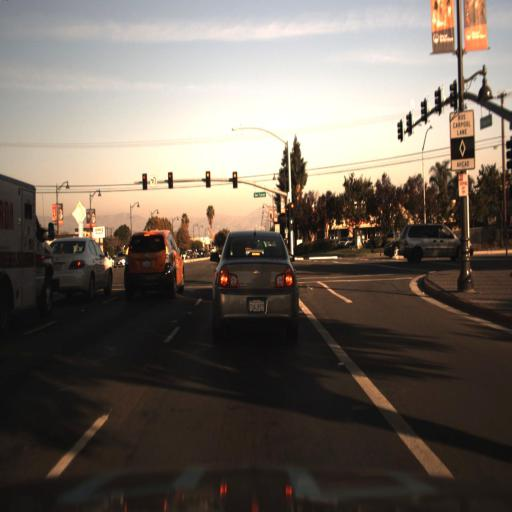car: (204, 217, 301, 349), (0, 171, 59, 335), (48, 230, 111, 311), (120, 224, 186, 300), (394, 212, 479, 271), (379, 229, 403, 260)
trafficLight-Red: (284, 195, 298, 213), (229, 164, 239, 183), (139, 170, 149, 186), (166, 169, 174, 183), (203, 166, 210, 181)
trafficLight-RedLeft: (164, 166, 174, 193), (140, 169, 149, 193)
